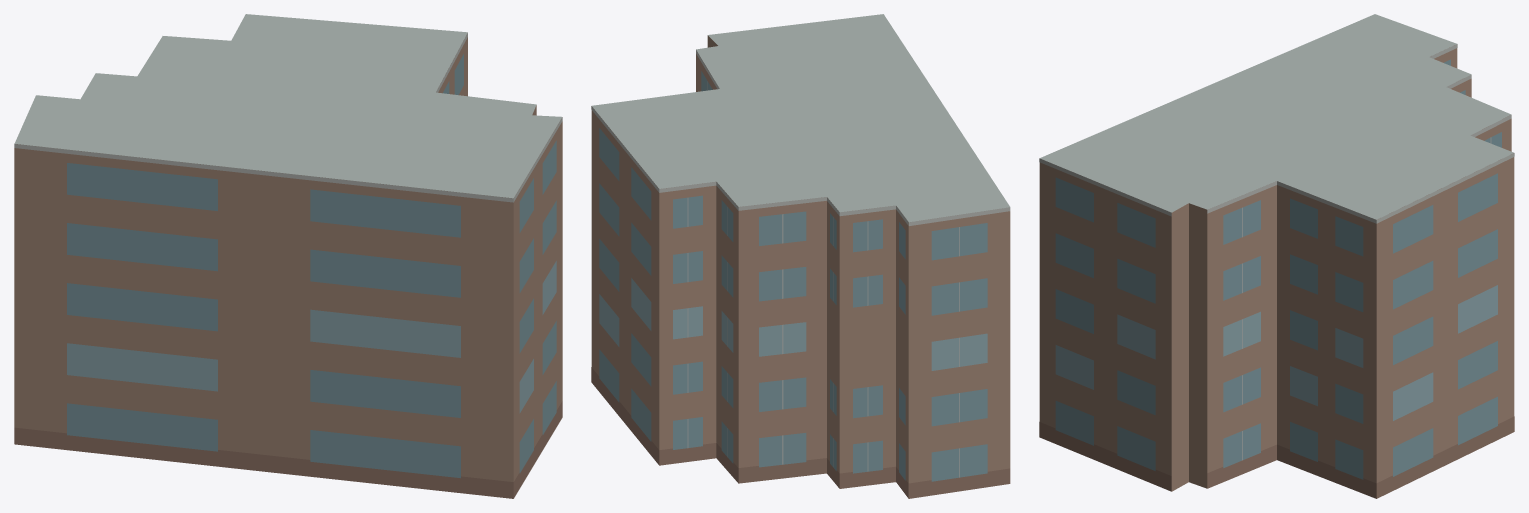
File: survey-upis-32469444.glb
3 renders of one model, left to right at view 1: azimuth 30°, elevation 25°; view 2: azimuth 150°, elevation 25°; view 3: azimuth 270°, elevation 25°, orthographic. The views are drawn at different scales.
Parts seen in each view (by area): view 1: survey-upis-32469444.tmp; view 2: survey-upis-32469444.tmp; view 3: survey-upis-32469444.tmp.
Boxes of the visible parts, bbox=[...] form: survey-upis-32469444.tmp: bbox=[14, 14, 562, 498]; survey-upis-32469444.tmp: bbox=[591, 14, 1010, 498]; survey-upis-32469444.tmp: bbox=[1039, 14, 1514, 498].
Bounding box in the file's own units: 27.28 × 17.24 × 26.6.
